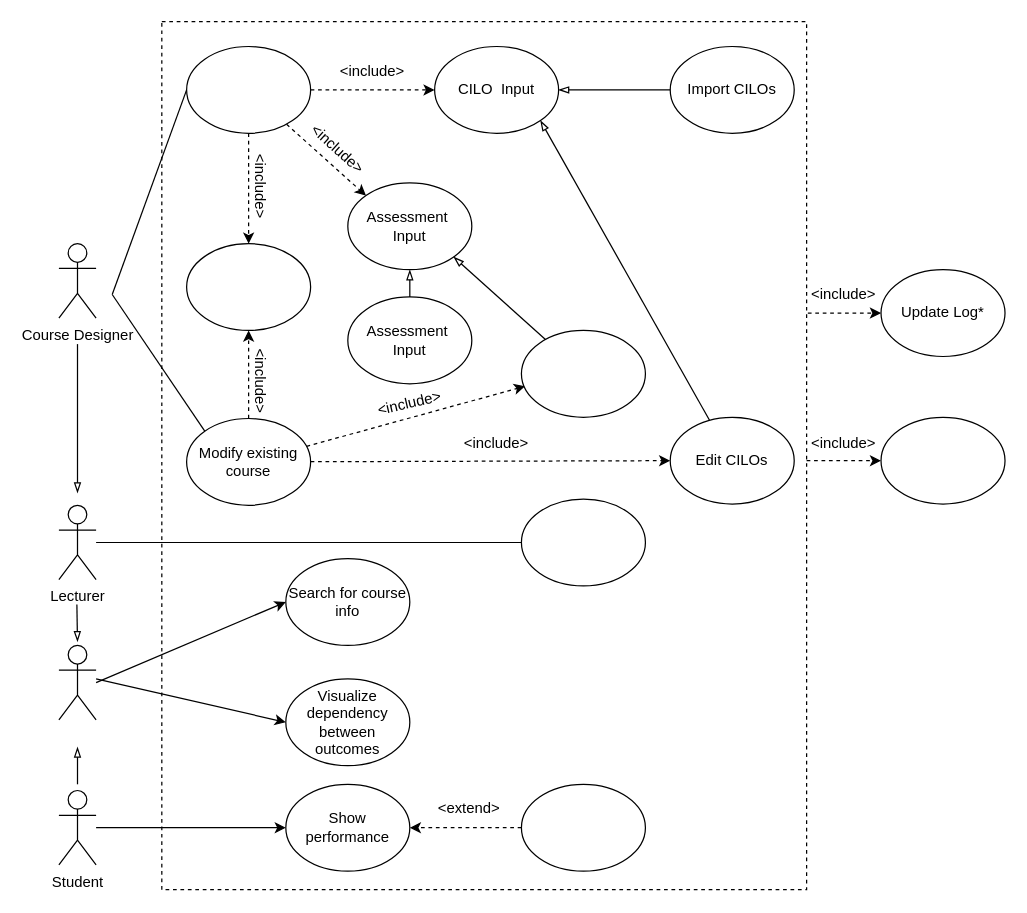
The diagram is 1027 pixels wide and 913 high, and some of its shapes have lost their labels. Each missing label, with the box of its shape:
Create a new course: (185, 45, 311, 133)
Define outcome dependency: (185, 242, 311, 330)
Display analysis result: (520, 498, 645, 586)
Edit Assessment Method: (520, 329, 645, 417)
Login: (880, 416, 1005, 504)
Select performance model: (520, 783, 645, 871)
User: (58, 644, 96, 720)
